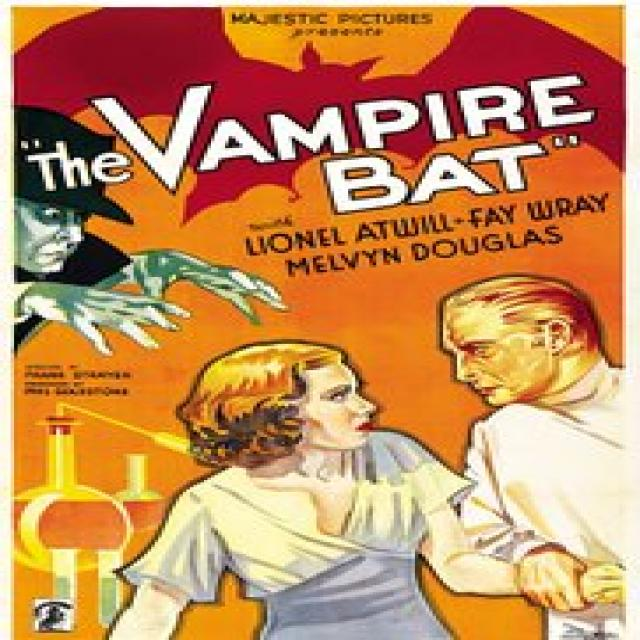movie-judul: (20, 81, 608, 214)
picture: (103, 271, 623, 640), (11, 104, 291, 360)
